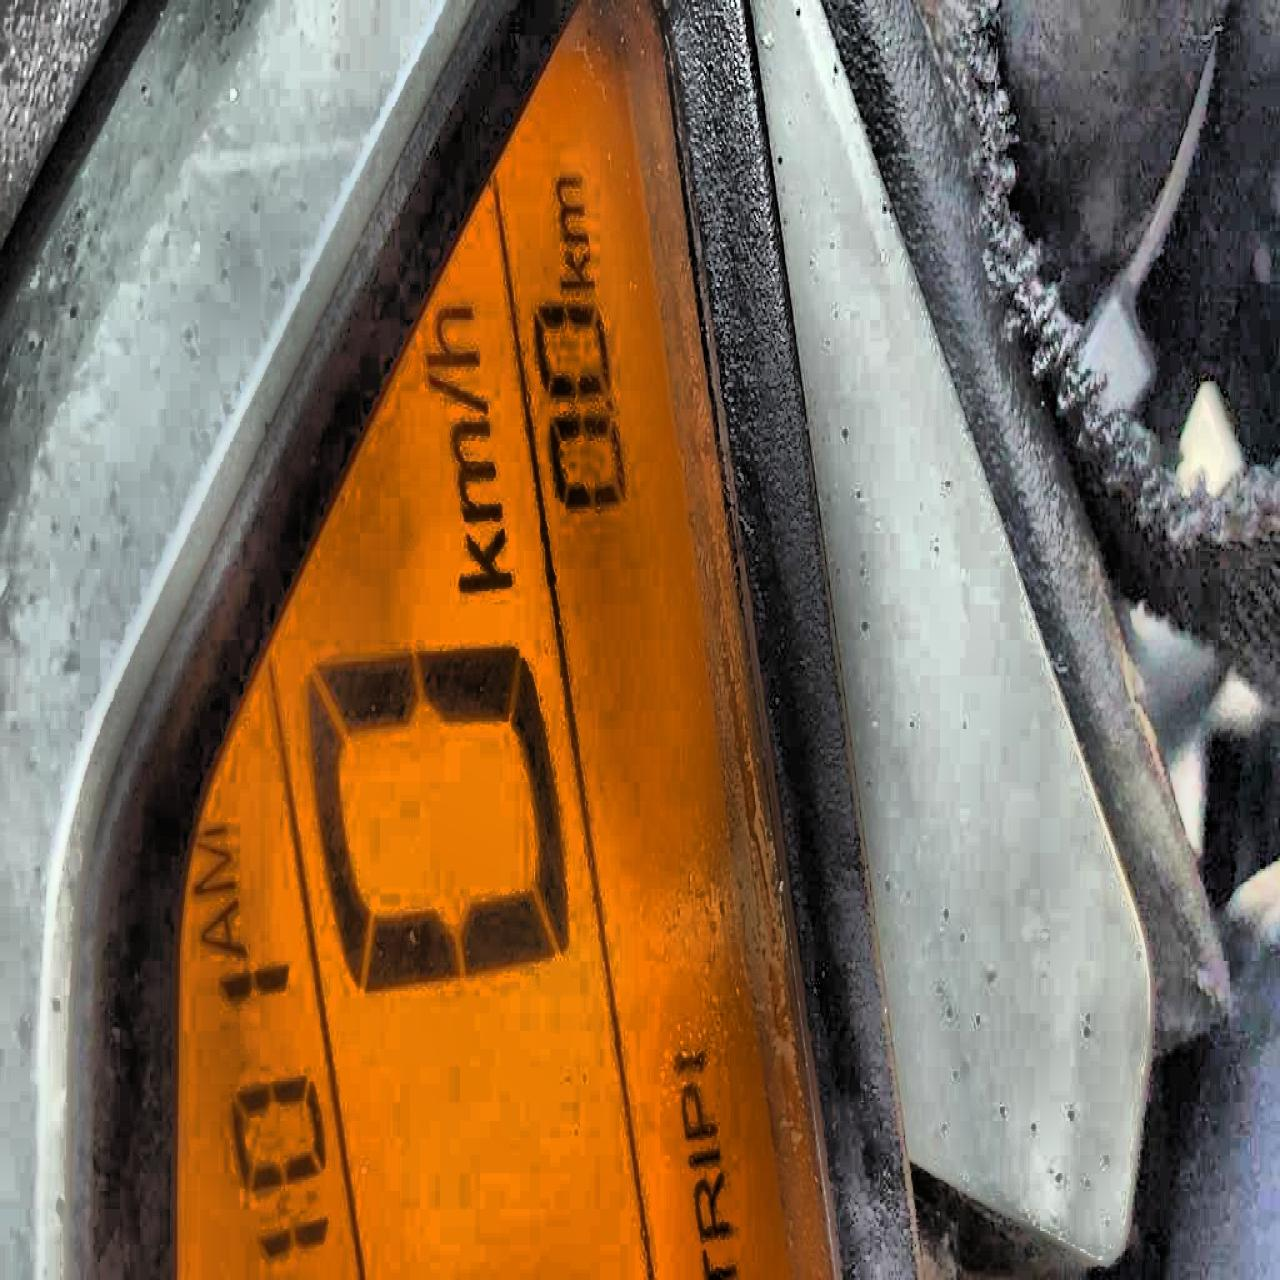-: (602, 393, 613, 409)
0: (298, 640, 574, 1002), (226, 1071, 326, 1196), (539, 409, 629, 516), (530, 295, 612, 394)
1: (257, 1208, 328, 1267), (216, 965, 290, 1005), (665, 1035, 715, 1077)
X: (447, 417, 503, 523), (421, 298, 481, 367), (454, 525, 515, 591), (188, 817, 237, 896), (418, 367, 490, 415), (197, 896, 246, 958), (552, 169, 590, 244), (693, 1169, 731, 1238), (680, 1082, 716, 1141), (558, 247, 597, 291), (699, 1245, 738, 1278), (687, 1144, 722, 1166)
odometer: (152, 0, 850, 1278)
